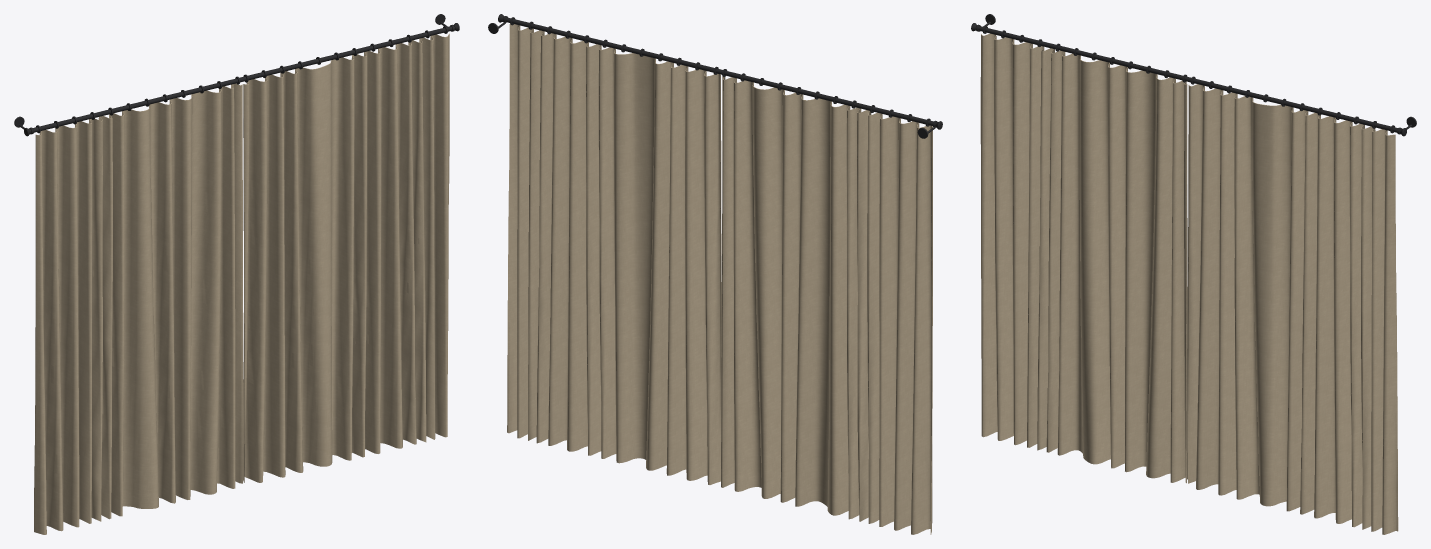
The model's file is curtain_250.glb.
The picture shows the model from 3 angles, left to right: view 1: azimuth 30°, elevation 25°; view 2: azimuth 150°, elevation 25°; view 3: azimuth 330°, elevation 25°; orthographic projection. The views are drawn at different scales.
Visible parts, largest first — view 1: curtain_250_fabric_l, curtain_250_fabric_r, curtain_250_rod; view 2: curtain_250_fabric_r, curtain_250_fabric_l, curtain_250_rod; view 3: curtain_250_fabric_r, curtain_250_fabric_l, curtain_250_rod.
Boxes of the visible parts, left/top/right/bottom form: curtain_250_fabric_l: left=34, top=83, right=243, bottom=534; curtain_250_fabric_r: left=243, top=33, right=449, bottom=482; curtain_250_rod: left=24, top=23, right=459, bottom=136; curtain_250_fabric_r: left=507, top=24, right=721, bottom=484; curtain_250_fabric_l: left=721, top=76, right=932, bottom=534; curtain_250_rod: left=498, top=14, right=942, bottom=129; curtain_250_fabric_r: left=1187, top=84, right=1398, bottom=534; curtain_250_fabric_l: left=980, top=33, right=1187, bottom=483; curtain_250_rod: left=971, top=23, right=1406, bottom=136.
Size of the model in its own units: 2.5 by 2.25 by 0.1837.
Materials: 2 (1 with a texture image).
